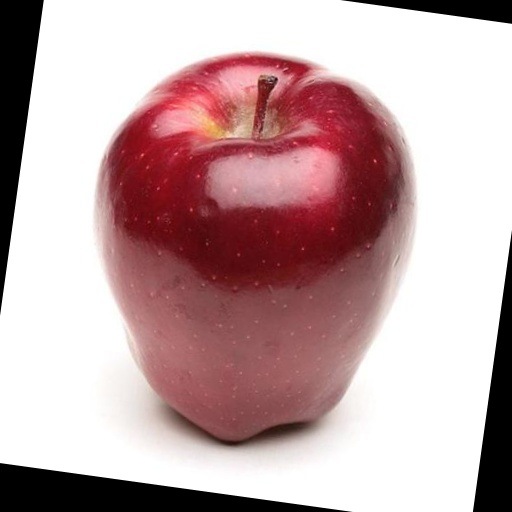fruit: (95, 53, 414, 440)
